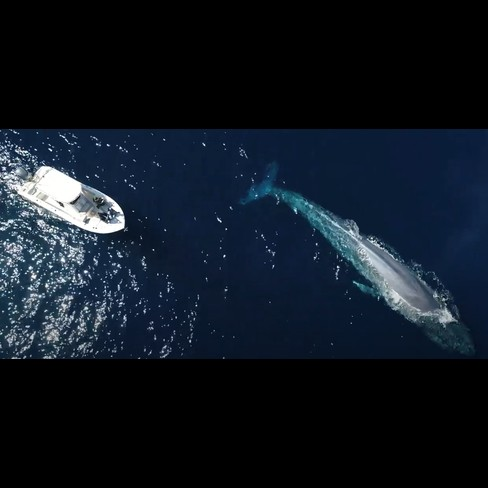bluewhale: (236, 159, 479, 359)
boat: (8, 160, 133, 240)
